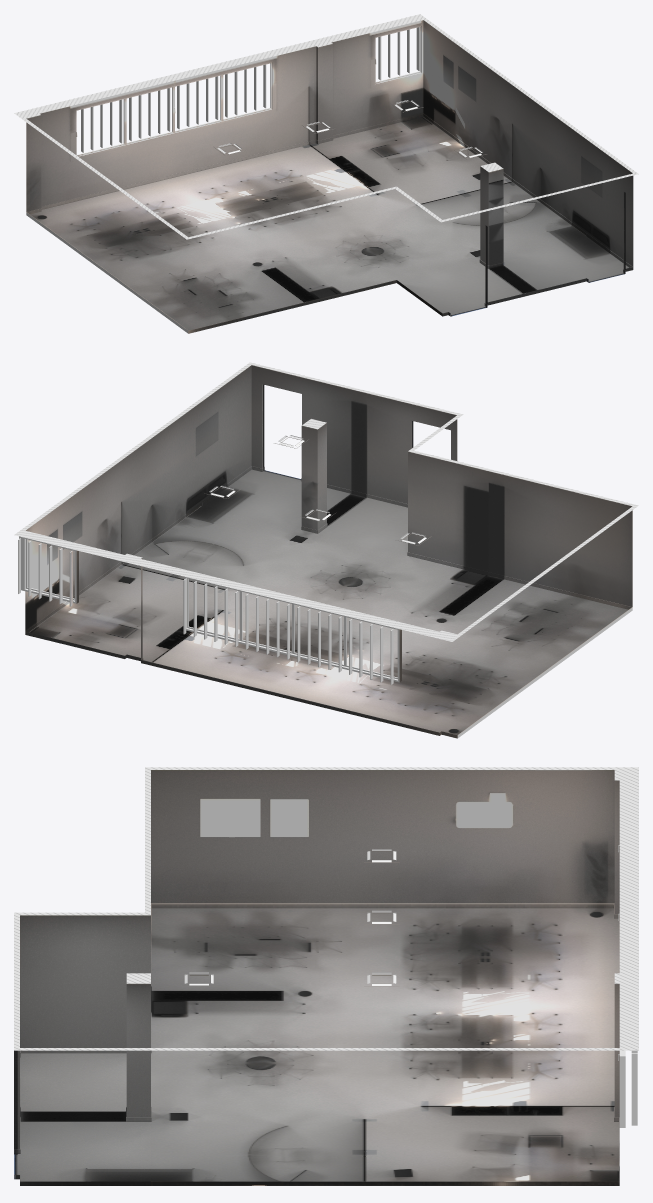
Rendered from 1b_testGI_03.gltf.
3 views of the same model, one above another, from view 1: azimuth 30°, elevation 25°; view 2: azimuth 150°, elevation 25°; view 3: azimuth 270°, elevation 25° (orthographic). The views are drawn at different scales.
Visible parts, largest first — view 1: ground_office_01, masonry_01, ground_hall_01, section_face_01, rail_double_01, baseboard_office_01, windows_01, baseboard_hall_01; view 2: ground_office_01, masonry_01, ground_hall_01, section_face_01, rail_double_01, baseboard_office_01, windows_01, baseboard_hall_01; view 3: ground_office_01, masonry_01, ground_hall_01, section_face_01, baseboard_office_01, baseboard_hall_01.
Part boxes in pixels (box(x1,y1,x2,y2)): ground_office_01: box(30, 117, 586, 330); masonry_01: box(26, 20, 633, 304); ground_hall_01: box(400, 236, 628, 316); section_face_01: box(14, 14, 638, 239); rail_double_01: box(81, 27, 419, 152); baseboard_office_01: box(26, 113, 586, 333); windows_01: box(74, 24, 423, 158); baseboard_hall_01: box(396, 233, 633, 316); ground_office_01: box(30, 505, 628, 734); masonry_01: box(25, 365, 632, 659); ground_hall_01: box(203, 469, 407, 555); section_face_01: box(14, 362, 638, 641); rail_double_01: box(18, 538, 393, 684); baseboard_office_01: box(25, 502, 632, 738); windows_01: box(19, 536, 401, 682); baseboard_hall_01: box(202, 466, 407, 555); ground_office_01: box(151, 908, 618, 1181); masonry_01: box(14, 770, 619, 1149); ground_hall_01: box(14, 1053, 150, 1181); section_face_01: box(14, 767, 638, 1050); baseboard_office_01: box(151, 903, 619, 1185); baseboard_hall_01: box(14, 1050, 151, 1185).
Size of the model in its own units: 11.01 by 2.5 by 10.26.
14 materials, 13 textured.
